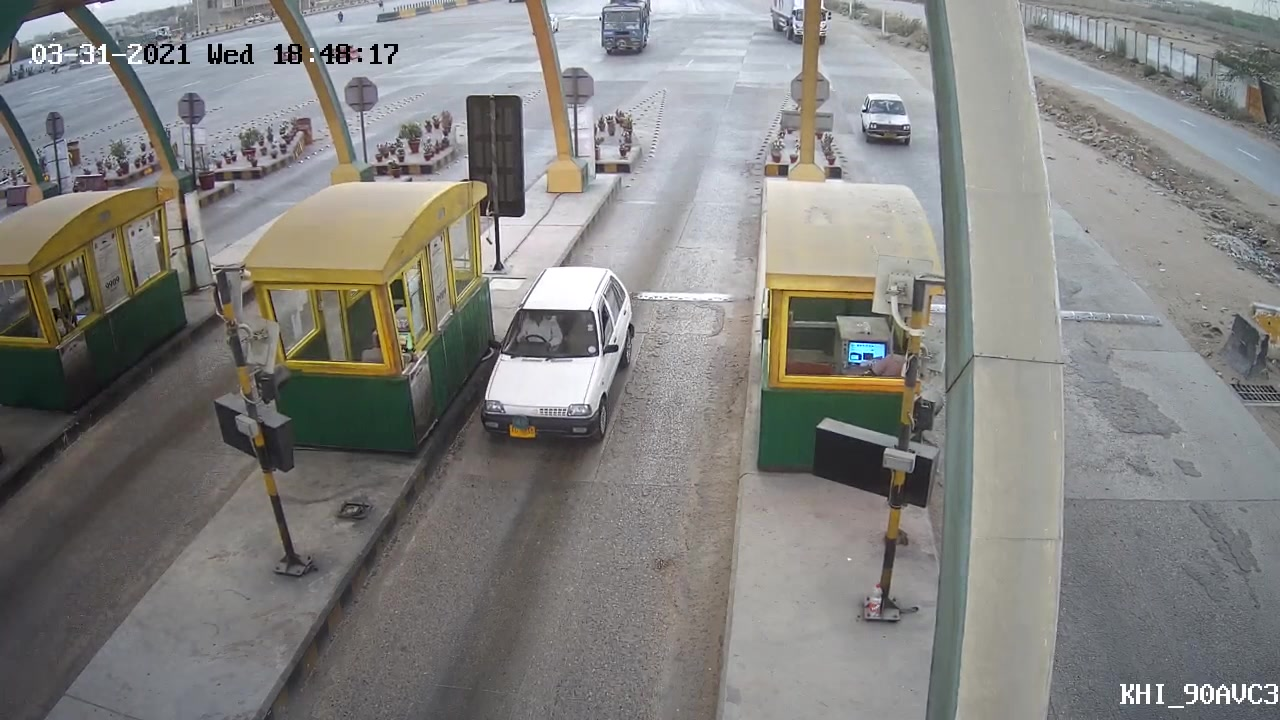F1: (465, 262, 643, 448)
